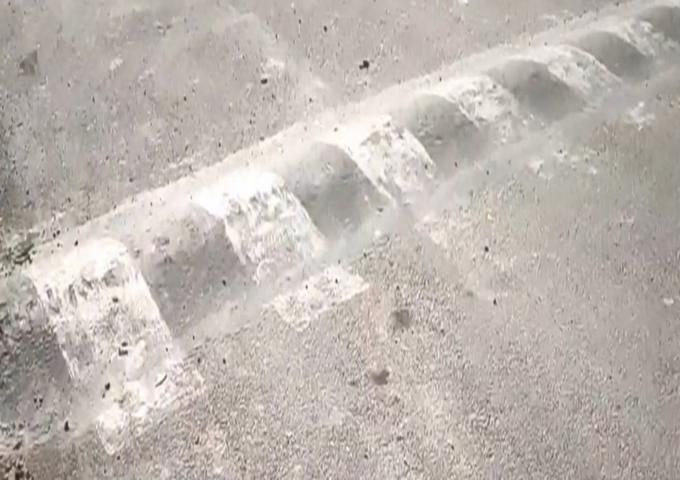speedbreaker: (1, 0, 680, 480)
